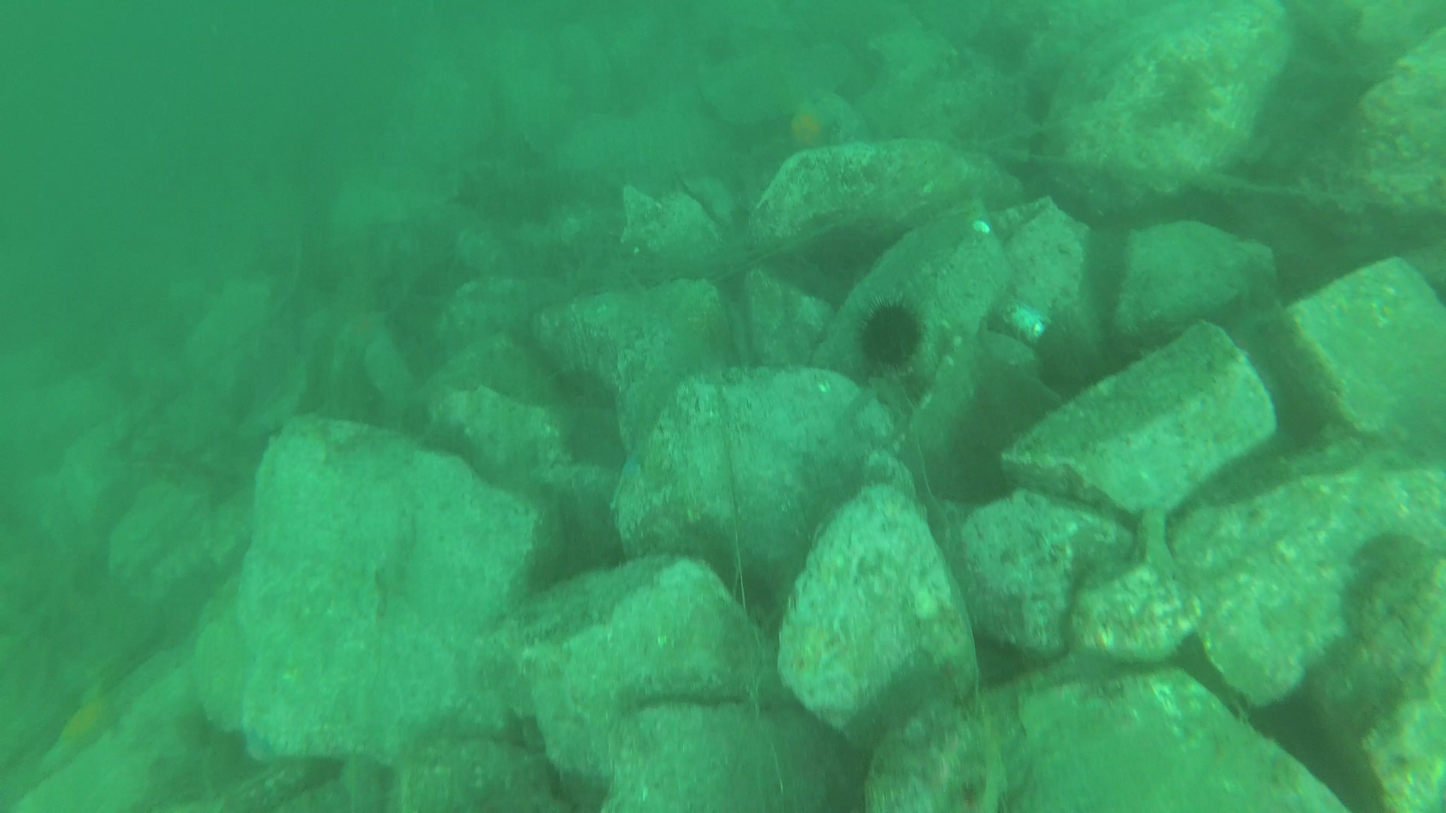holothurian: (40, 691, 130, 775), (787, 91, 838, 160)
starfish: (848, 292, 926, 378)
